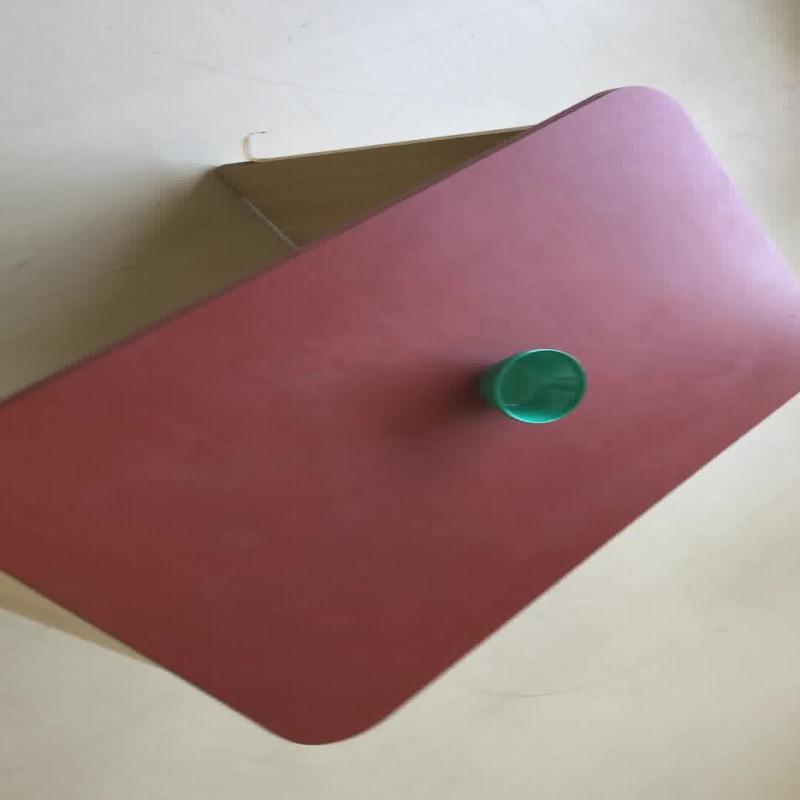bowl: (0, 82, 796, 746), (486, 348, 586, 424)
